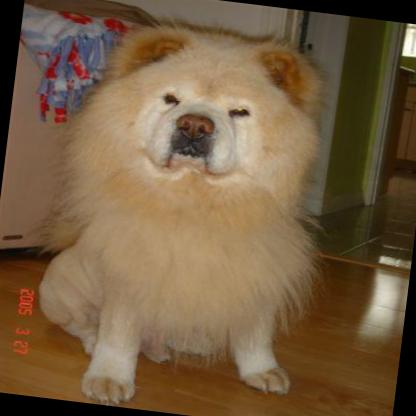chow: (21, 3, 348, 416)
